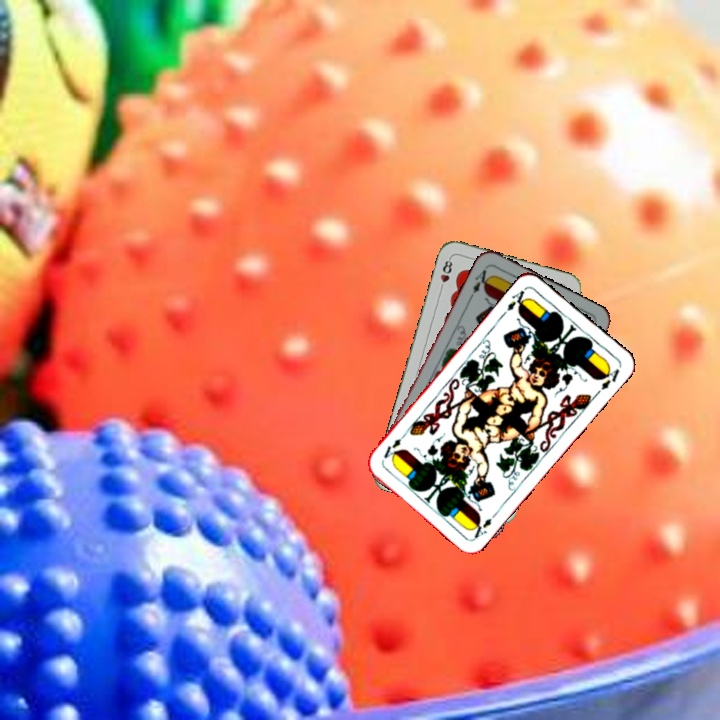EA: (468, 507, 500, 541), (466, 263, 494, 301), (503, 284, 531, 314)
H8: (436, 254, 455, 293)
